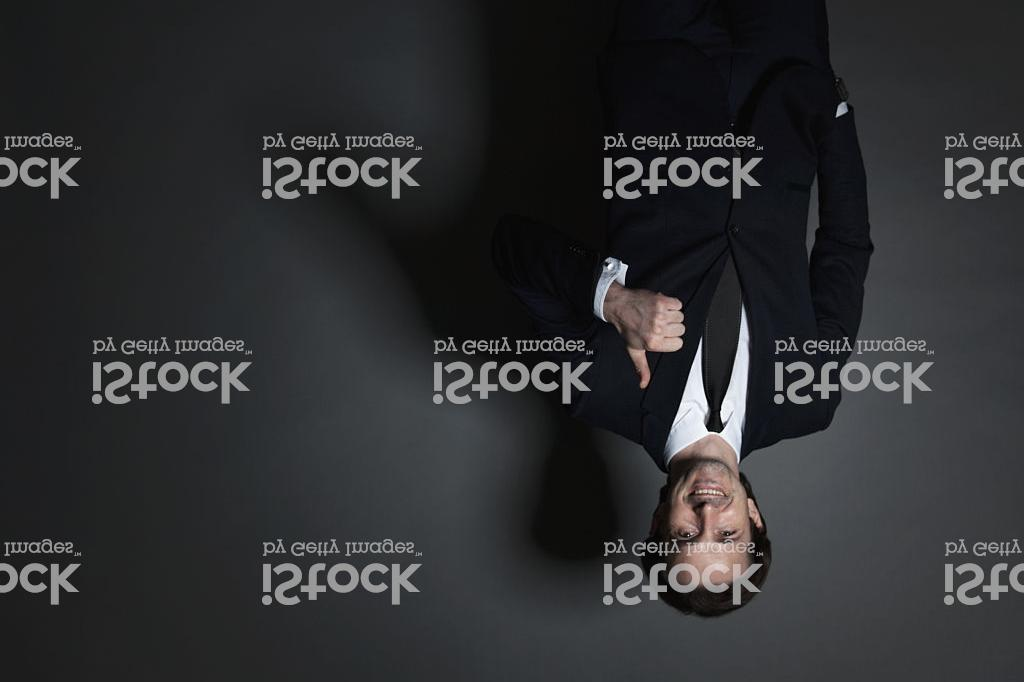thumbsdown: (624, 289, 687, 390)
